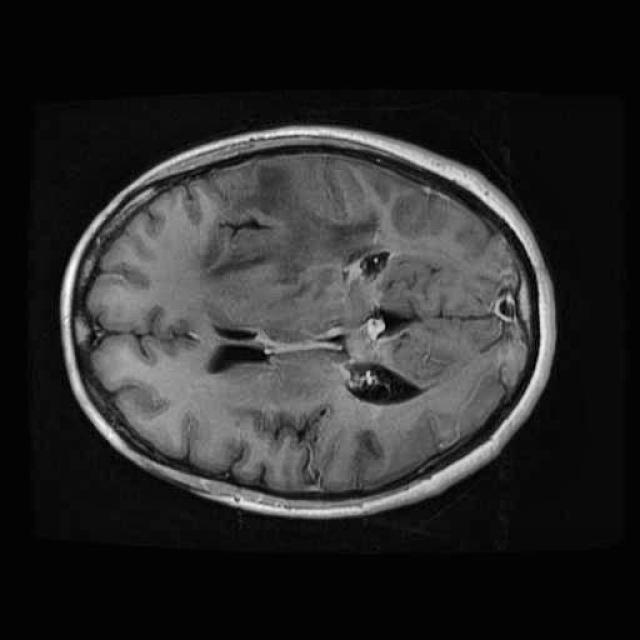Non-Tumor: (190, 155, 391, 310)
